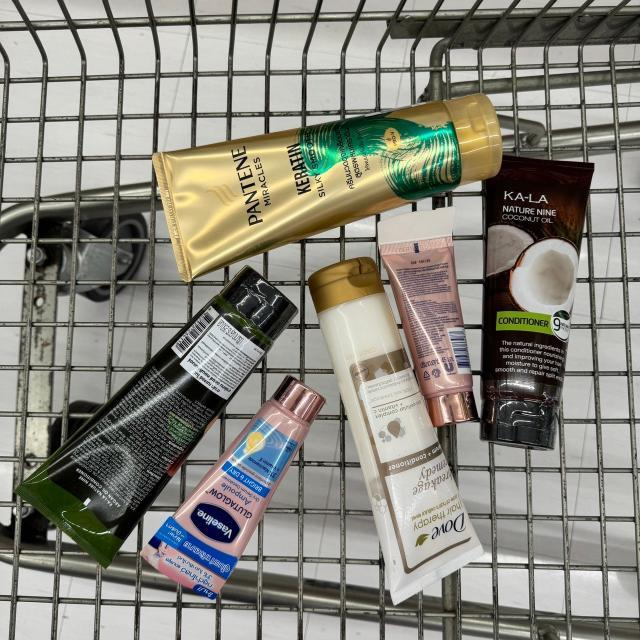Squeeze Tube: (11, 262, 303, 572), (141, 87, 510, 290), (306, 241, 493, 616), (129, 367, 328, 611), (476, 156, 599, 455), (376, 201, 482, 435)
